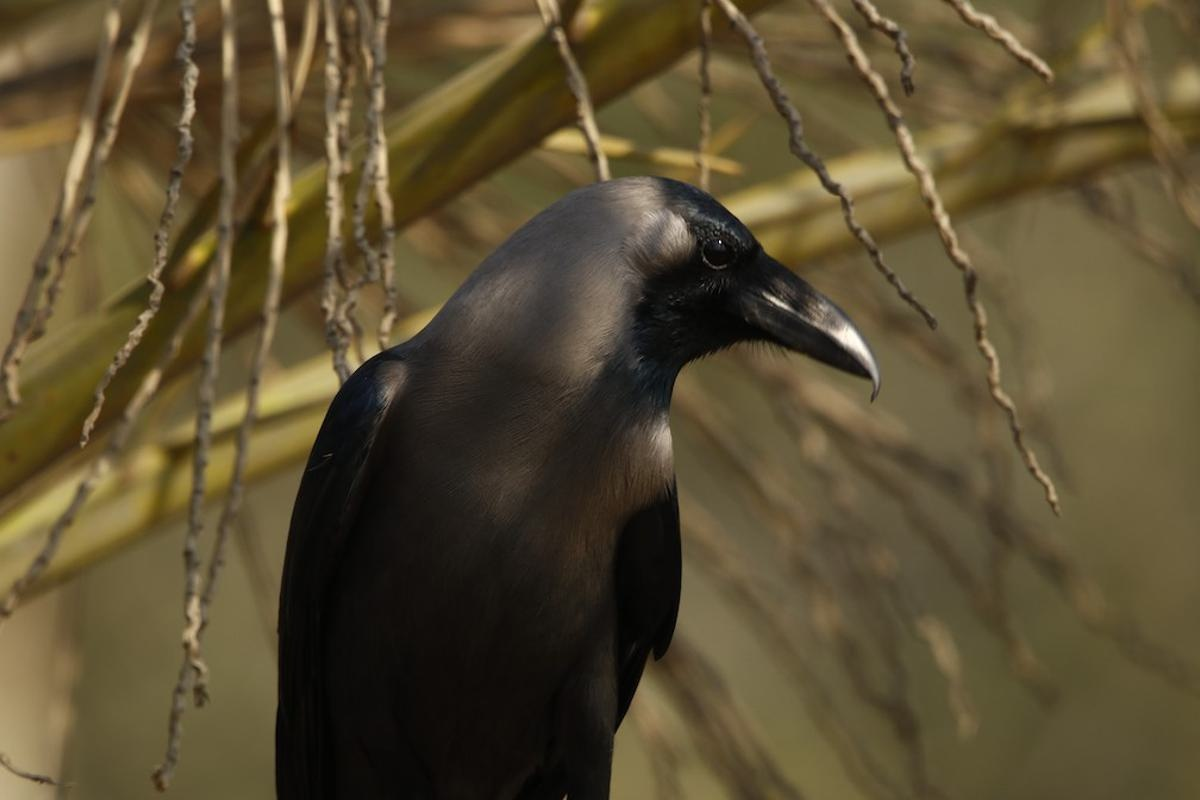crow: (179, 177, 917, 800)
